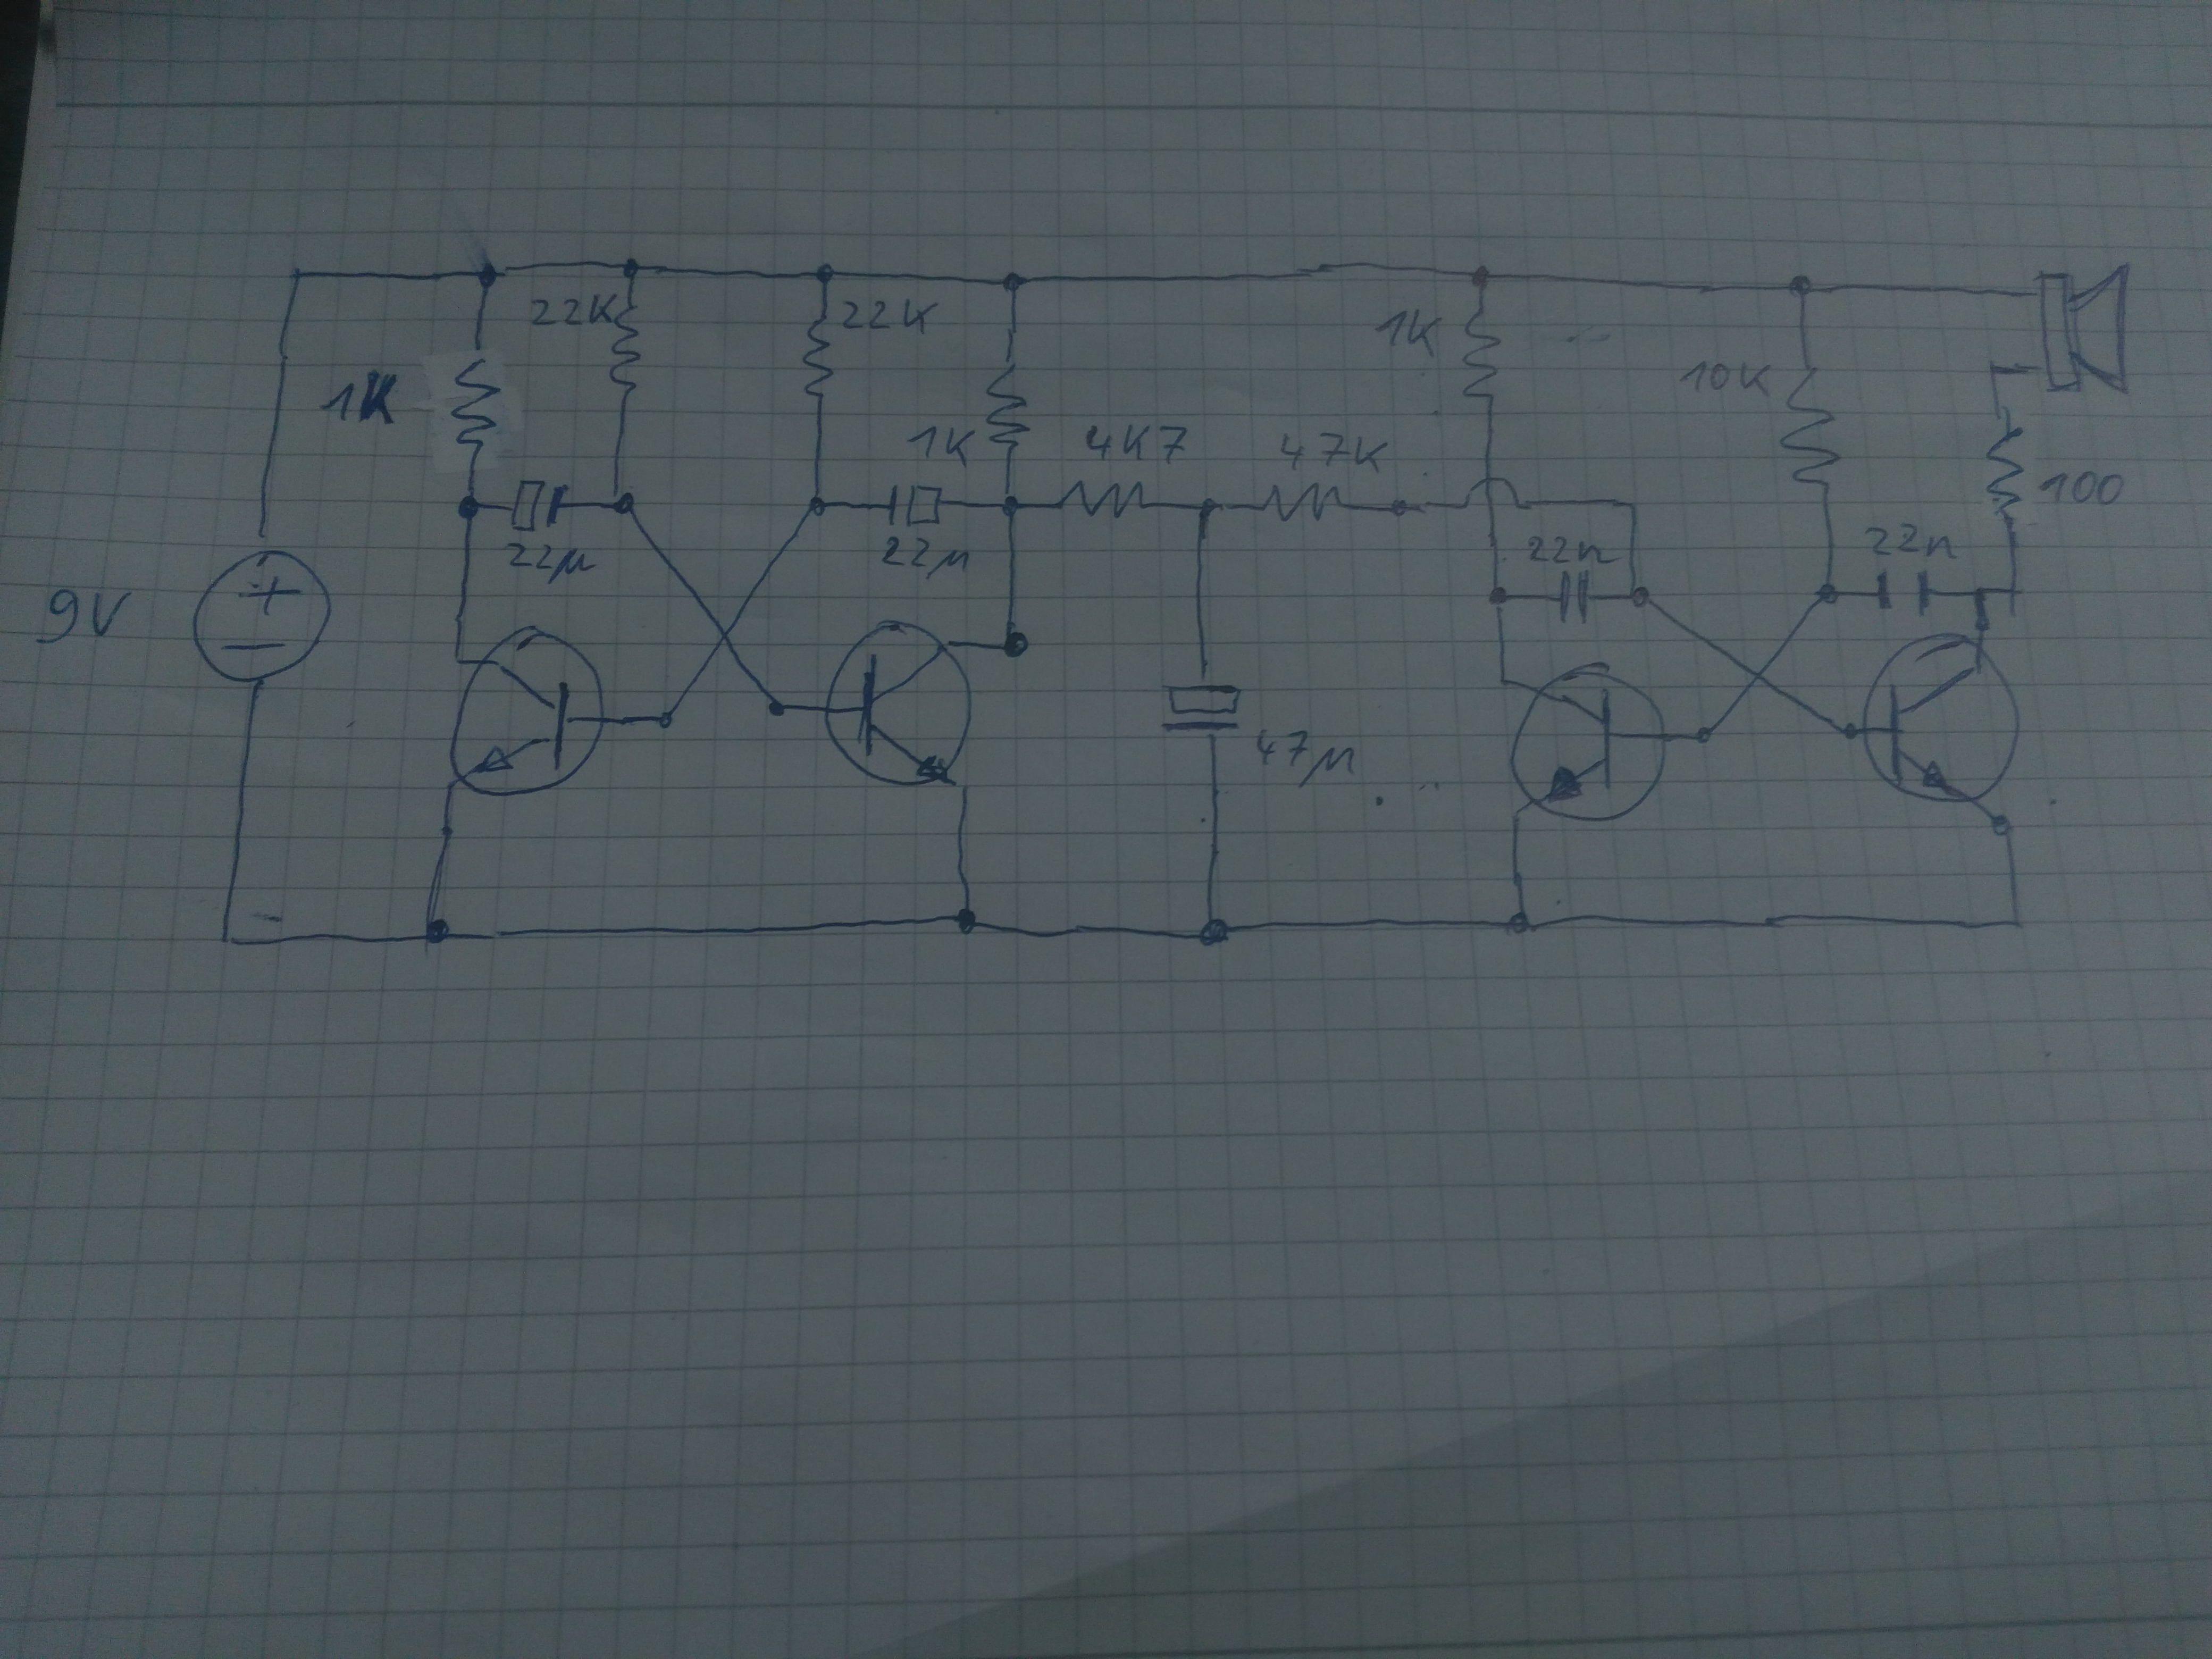capacitor.polarized: (1158, 680, 1245, 734), (507, 477, 573, 532), (887, 479, 944, 532)
capacitor.unpolarized: (1872, 566, 1932, 615), (1555, 563, 1590, 627)
crossover: (1456, 472, 1533, 516), (1735, 648, 1782, 695), (704, 612, 742, 657)
junction: (206, 913, 251, 957), (1193, 913, 1235, 953), (996, 626, 1036, 666), (1806, 573, 1844, 615), (1982, 809, 2020, 847), (1190, 490, 1228, 526), (604, 491, 641, 528), (1784, 270, 1820, 307), (421, 915, 458, 950), (1505, 908, 1543, 941), (953, 906, 988, 941), (1383, 495, 1416, 532), (1463, 260, 1498, 293), (1688, 721, 1721, 756), (453, 490, 484, 526), (991, 490, 1028, 521), (1998, 904, 2031, 938), (799, 486, 831, 521), (1622, 582, 1656, 613), (1486, 582, 1517, 617), (1831, 713, 1862, 748), (759, 692, 791, 725), (474, 263, 503, 296), (442, 643, 472, 676), (946, 781, 979, 809), (1000, 270, 1029, 300), (651, 708, 679, 739), (617, 256, 646, 284), (1966, 579, 1996, 606), (1616, 493, 1644, 521), (810, 261, 840, 288), (1982, 359, 2008, 389), (2000, 580, 2027, 605), (1968, 612, 1994, 636), (286, 263, 310, 288), (1503, 807, 1529, 829), (439, 774, 462, 798), (1493, 669, 1517, 692)
resistor: (1777, 366, 1843, 495), (448, 355, 505, 455), (1984, 418, 2031, 528), (982, 359, 1035, 457), (1458, 303, 1505, 410), (1055, 474, 1150, 523), (1259, 481, 1348, 523), (606, 301, 644, 397), (799, 312, 838, 406)
speaker: (2034, 256, 2135, 401)
text: (1251, 725, 1359, 789), (33, 586, 134, 650), (1275, 427, 1390, 481), (315, 364, 399, 429), (1082, 420, 1191, 467), (878, 530, 972, 582), (503, 537, 597, 586), (1858, 519, 1963, 563), (838, 296, 944, 336), (1376, 307, 1447, 366), (523, 289, 624, 331), (1679, 357, 1780, 399), (2038, 465, 2130, 509), (904, 423, 982, 472), (1522, 530, 1618, 568)
transistor: (1857, 629, 2026, 810), (446, 622, 610, 802), (819, 619, 979, 793), (1505, 664, 1670, 828)
voltage.dc: (183, 545, 336, 685)
